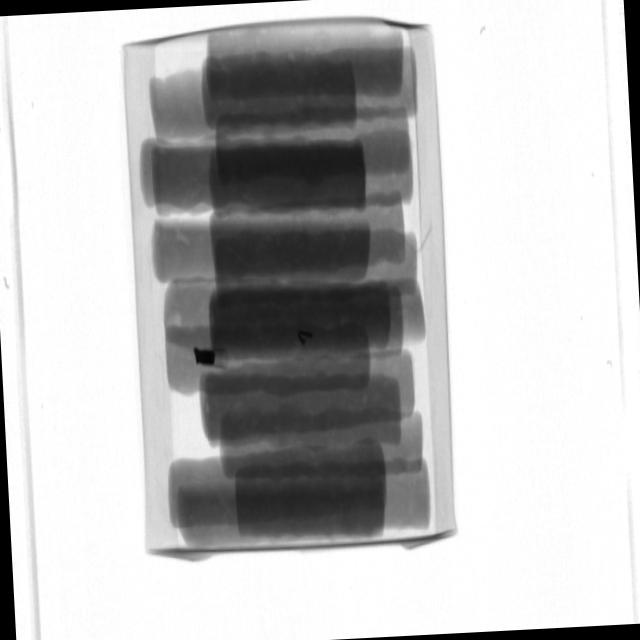ym: (197, 349, 220, 368), (299, 330, 317, 346)
